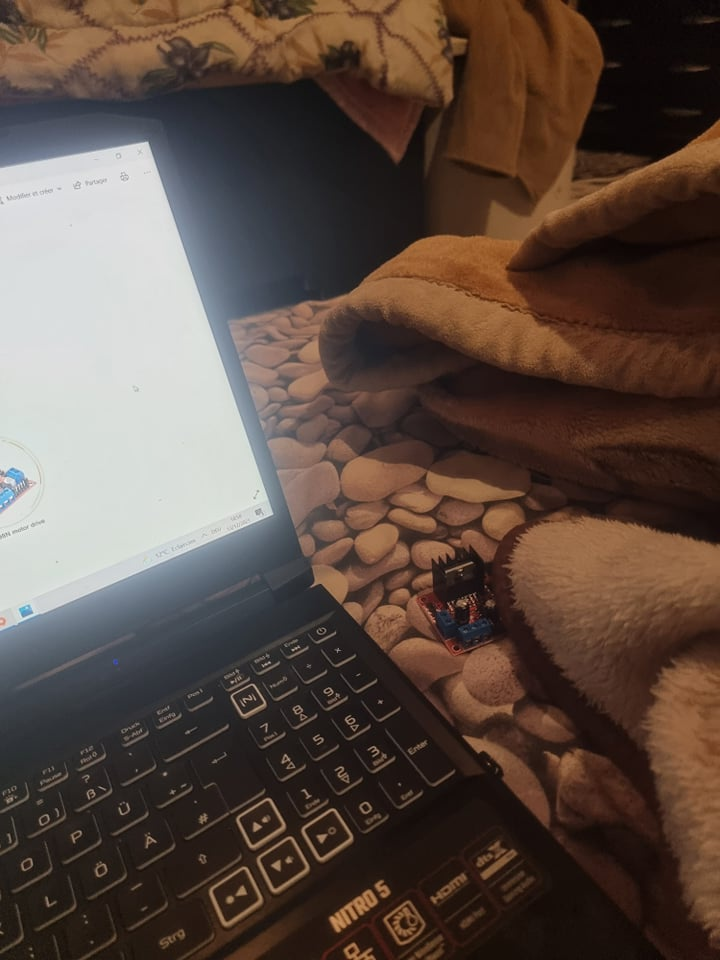MOTOR: (416, 544, 506, 657)
